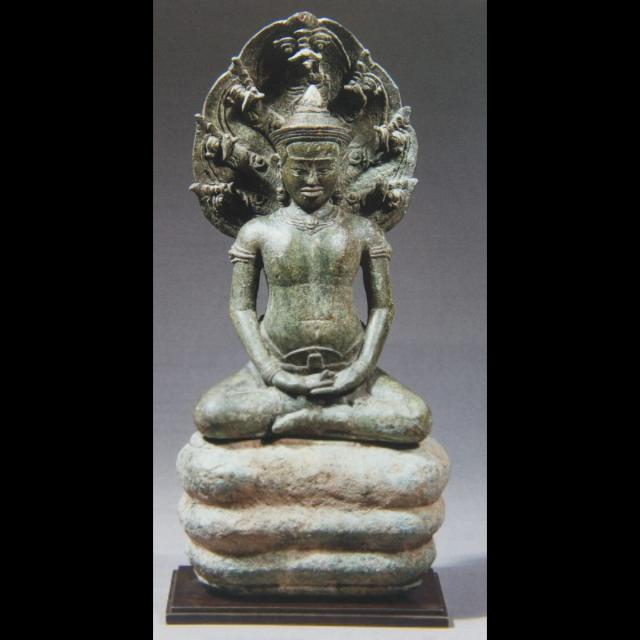buddha-sitting: (178, 85, 449, 595)
